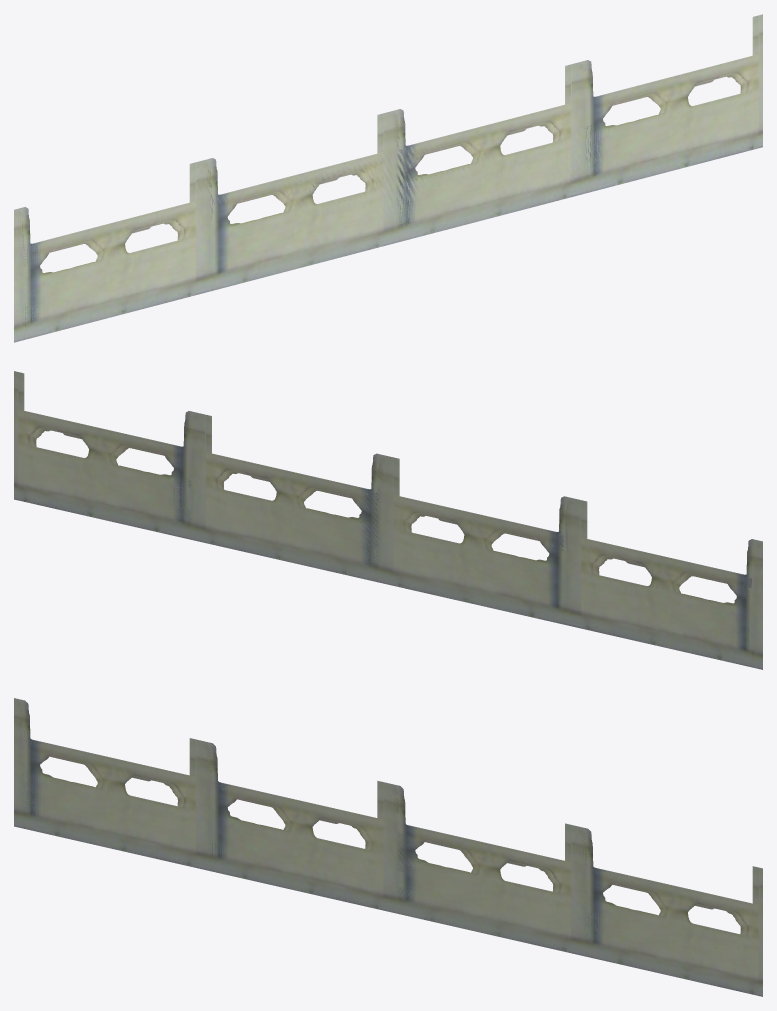
File: 人民英雄纪念碑102.dae
3 renders of one model, top to bottom at view 1: azimuth 30°, elevation 25°; view 2: azimuth 150°, elevation 25°; view 3: azimuth 330°, elevation 25°, orthographic. The views are drawn at different scales.
Parts seen in each view (by area): view 1: SketchUp; view 2: SketchUp; view 3: SketchUp.
Boxes of the visible parts, box(x1,y1,x2,y2) form: SketchUp: box(14, 14, 762, 342); SketchUp: box(14, 371, 762, 669); SketchUp: box(14, 698, 762, 996).
Size of the model in its own units: 331 by 9.81 by 55.12.
